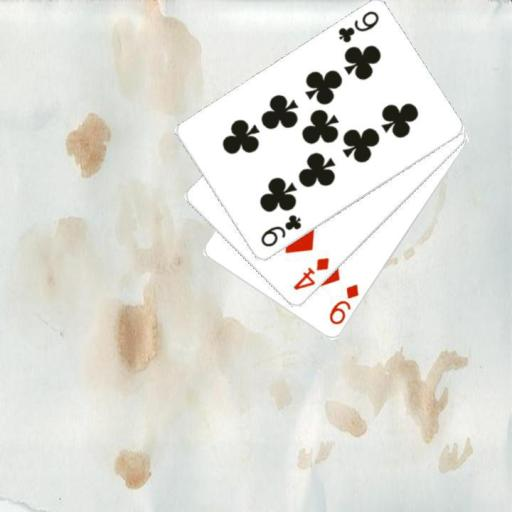4D: (290, 255, 331, 292)
9C: (257, 211, 303, 250), (335, 8, 380, 45)
9D: (326, 281, 361, 327)
